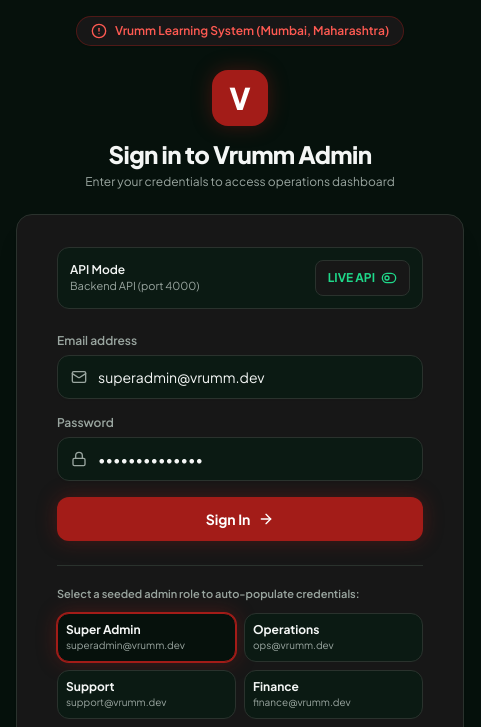
Test case: Login Page › updates form values when seeded role buttons are clicked
Click the button "Finance finance@vrumm.dev" at (334, 694), box [244,670,423,718]
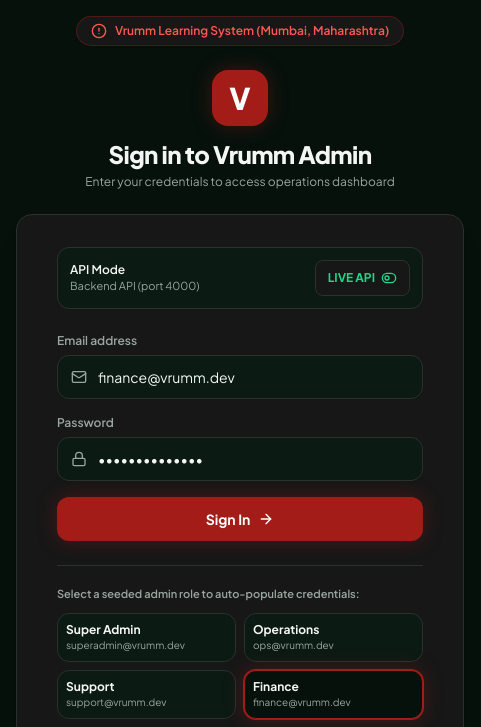
Now the field labelled "Email address" holds "finance@vrumm.dev", box [57,355,423,399]
